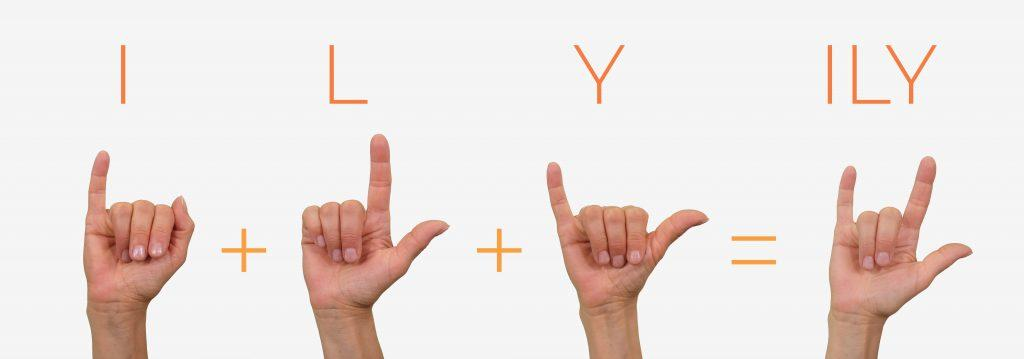Love_you: (816, 154, 969, 359)
